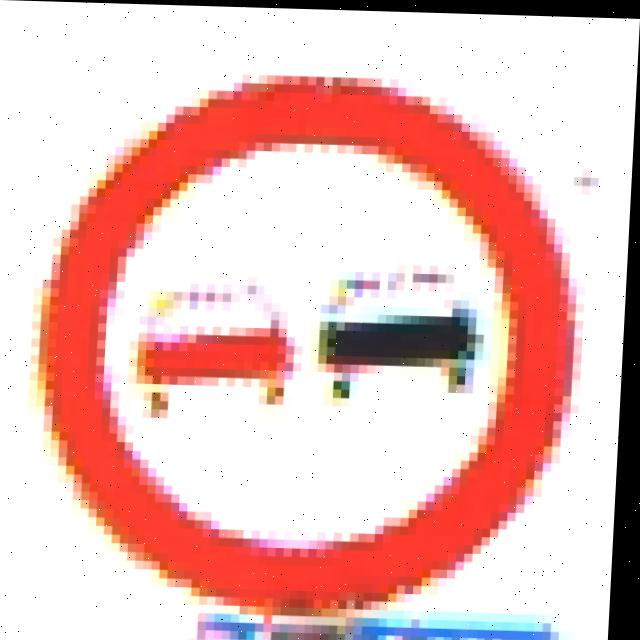no_overtaking: (30, 50, 604, 614)
